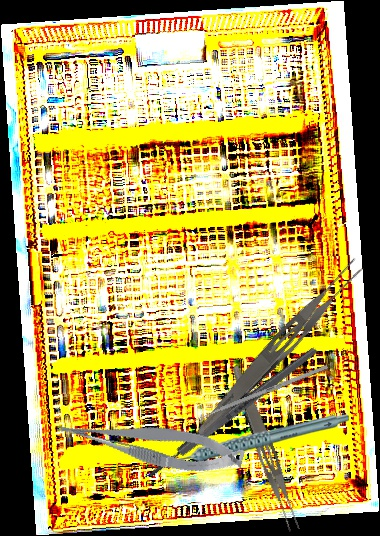Dressing Forceps: (192, 252, 369, 446), (223, 364, 305, 534)
Handpiece: (163, 413, 349, 462)
Micro Scissor: (54, 397, 247, 488)
Pusher: (183, 364, 329, 427)
Scalpel Handle: (145, 344, 321, 481)
